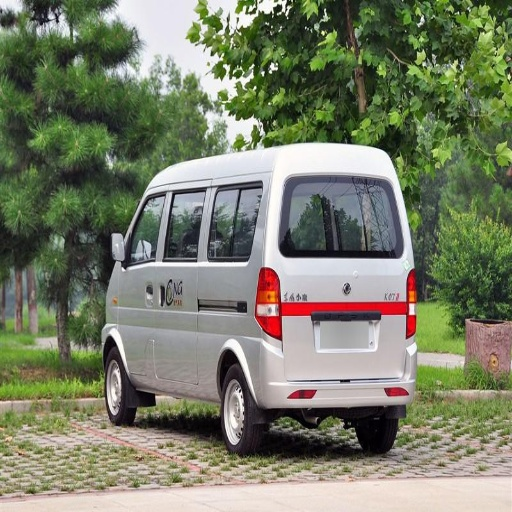back_bumper: (250, 333, 413, 407)
back_glass: (318, 209, 401, 257)
back_left_door: (165, 186, 252, 260)
back_left_light: (254, 273, 280, 338)
back_right_door: (279, 173, 368, 259)
trunk: (259, 260, 410, 378), (155, 270, 257, 381)
